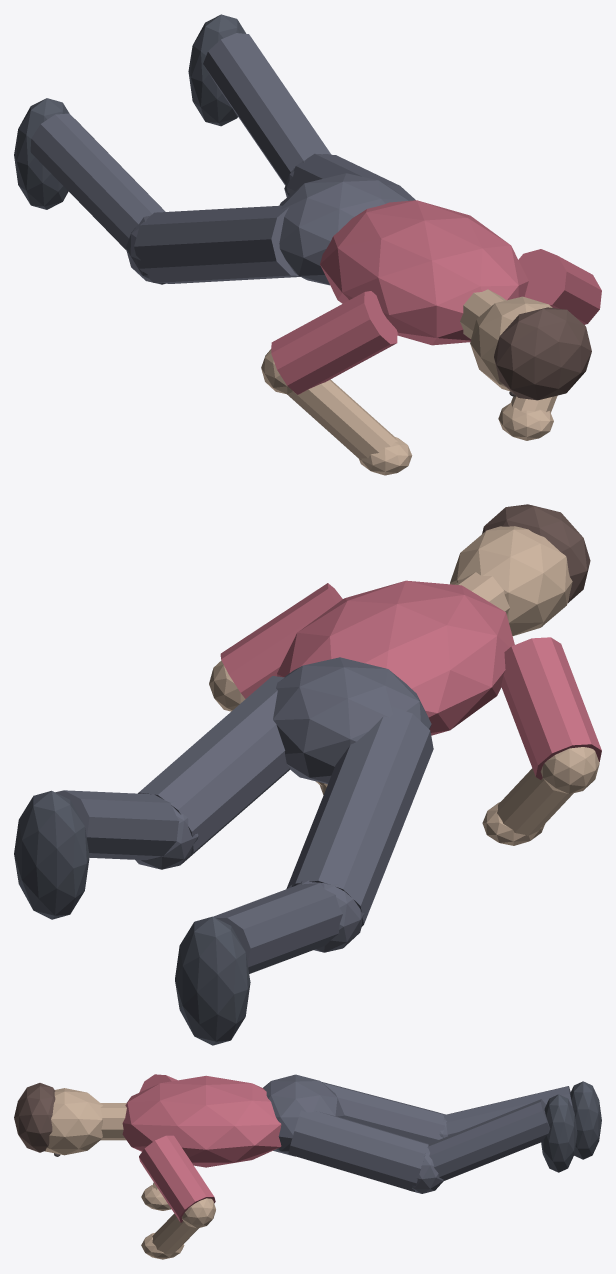
3 renders of one model, top to bottom at view 1: azimuth 30°, elevation 25°; view 2: azimuth 150°, elevation 25°; view 3: azimuth 270°, elevation 25°, orthographic. The views are drawn at different scales.
Visible parts, largest first — view 1: world; view 2: world; view 3: world.
Boxes of the visible parts, <box> form: world: <box>14,14,601,475</box>; world: <box>14,504,601,1045</box>; world: <box>14,1074,601,1259</box>.
Bounding box in the file's own units: 0.93 × 0.5928 × 2.04.
